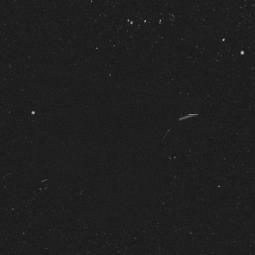cheops: (137, 84, 218, 184)
